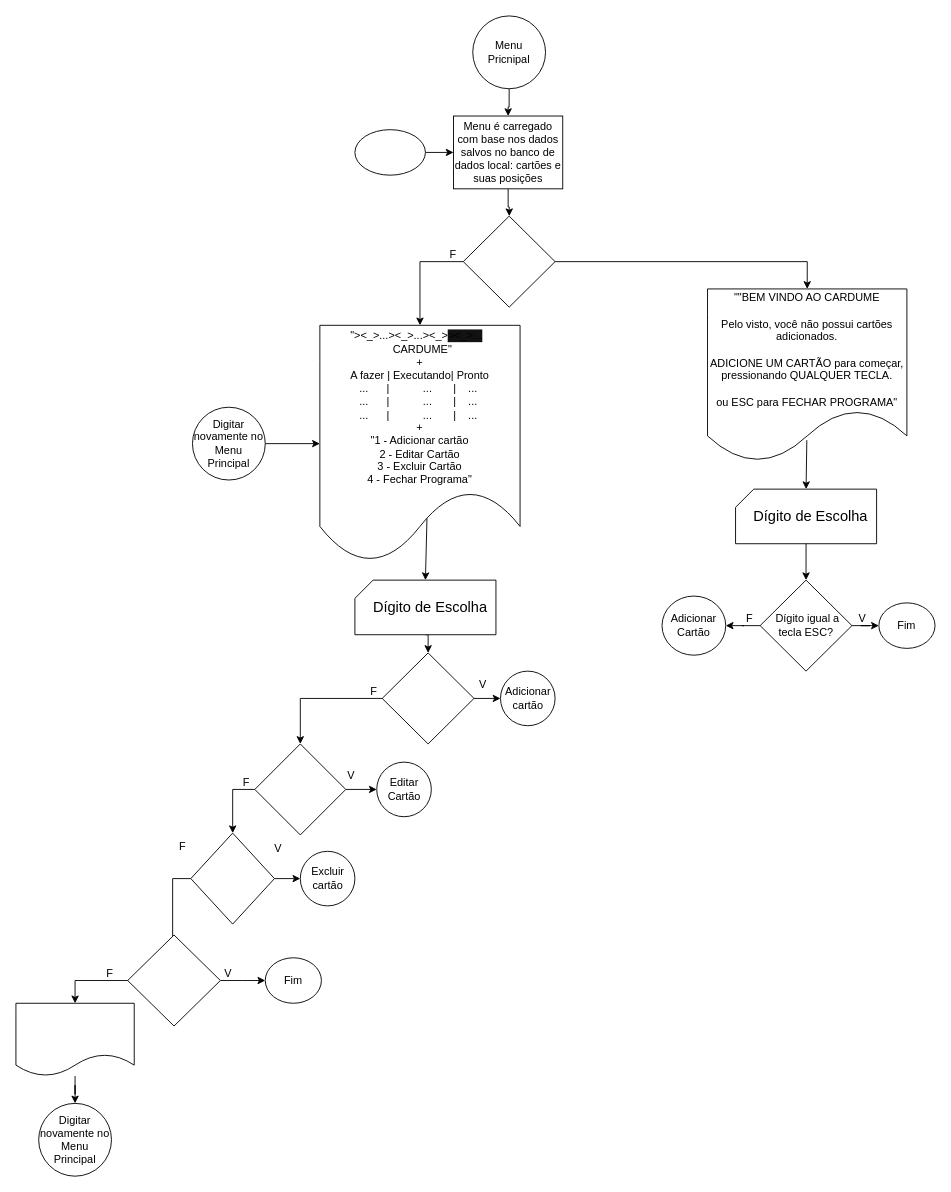
Image size: 951x1192. Some labels were removed from this diagram. The box of each missing label's shape, as (x1, y1, x2, y2) in pixels:
"Dígito inválido. Tente novamente.": (15, 1002, 134, 1076)
Escolha igual a 1?: (381, 652, 474, 744)
Escolha igual a 2?: (254, 743, 346, 835)
Escolha igual a 3?: (190, 832, 274, 924)
Escolha igual a 4?: (127, 934, 220, 1026)
Início: (354, 129, 425, 175)
Não existe nenhum cartão adicionado?: (462, 215, 555, 307)
